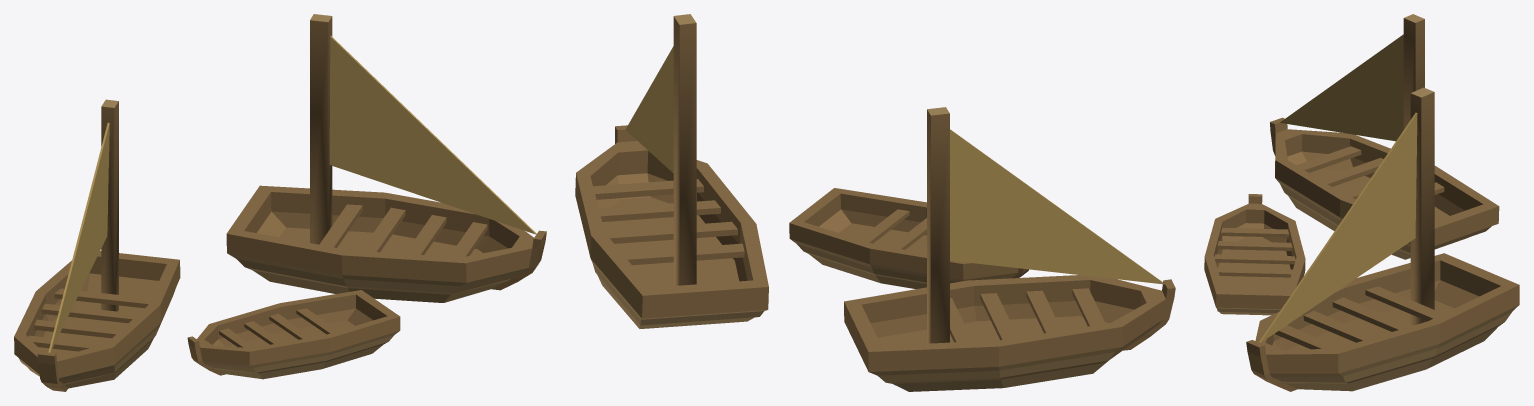
Rendered from Boat.fbx.
3 views of the same model, side by side, from view 1: azimuth 30°, elevation 25°; view 2: azimuth 150°, elevation 25°; view 3: azimuth 270°, elevation 25° (orthographic). The views are drawn at different scales.
Parts seen in each view (by area): view 1: pirate_captain; view 2: pirate_captain; view 3: pirate_captain.
Boxes of the visible parts, x1,y1,x2,y2 form: pirate_captain: (14, 14, 546, 391); pirate_captain: (575, 14, 1175, 391); pirate_captain: (1204, 14, 1519, 391).
Size of the model in its own units: 227 by 110 by 126.
